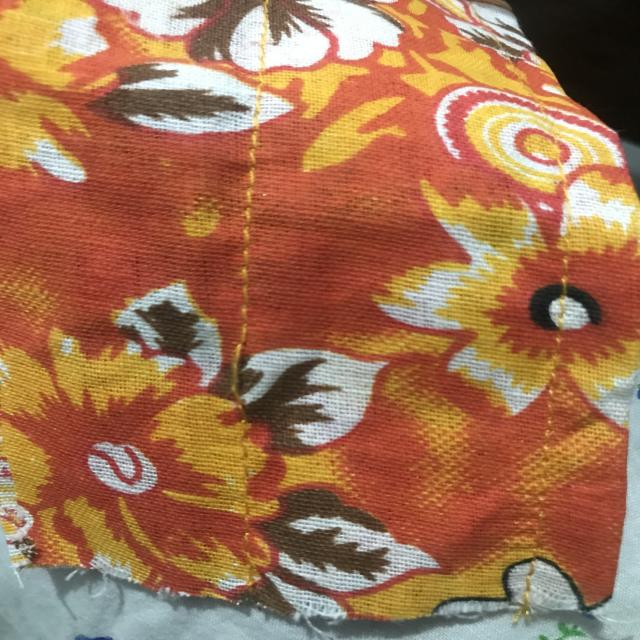good: (235, 174, 265, 303)
skip: (222, 318, 276, 419)
